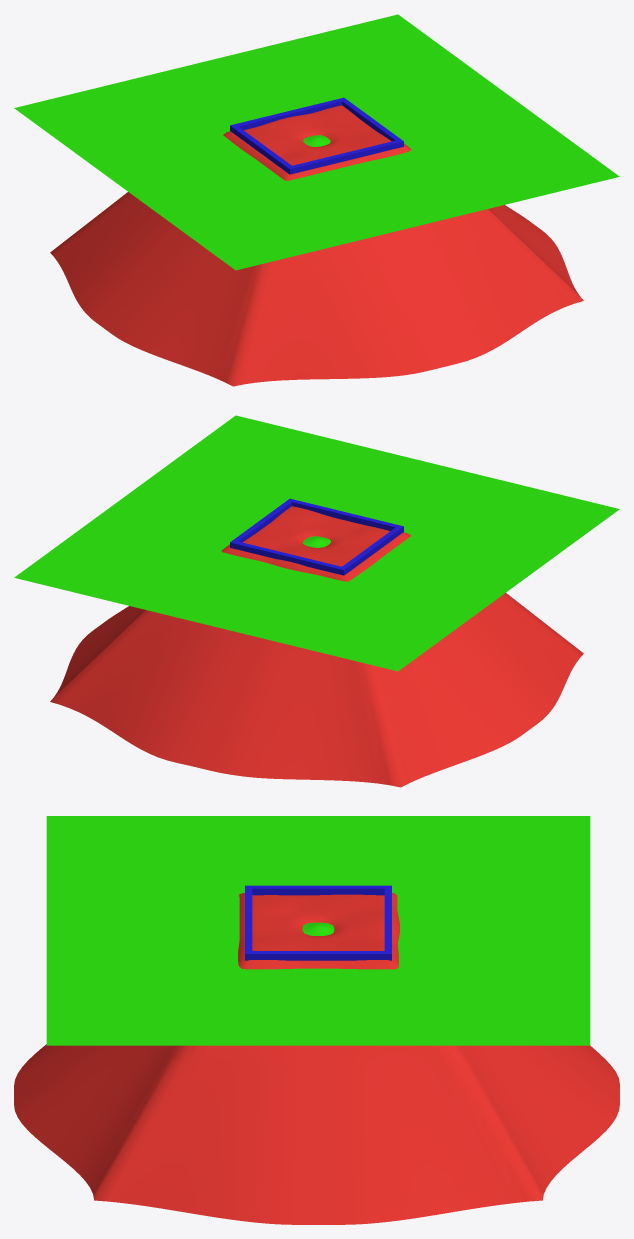
Rendered from cenario expressividade 3.fbx.
3 renders of one model, top to bottom at view 1: azimuth 30°, elevation 25°; view 2: azimuth 150°, elevation 25°; view 3: azimuth 270°, elevation 25°, orthographic. The views are drawn at different scales.
Parts seen in each view (by area): view 1: Agua.001, Areia, Cube; view 2: Agua.001, Areia, Cube; view 3: Agua.001, Areia, Cube.
Part boxes in pixels (box(x1,y1,x2,y2)): Agua.001: box(14, 14, 619, 270); Areia: box(50, 105, 583, 386); Cube: box(230, 97, 403, 174); Agua.001: box(14, 415, 619, 671); Areia: box(50, 506, 583, 787); Cube: box(230, 498, 403, 575); Agua.001: box(46, 816, 590, 1045); Areia: box(14, 893, 619, 1224); Cube: box(245, 885, 391, 960).
Bounding box in the file's own units: 8270 × 2640 × 8254.
